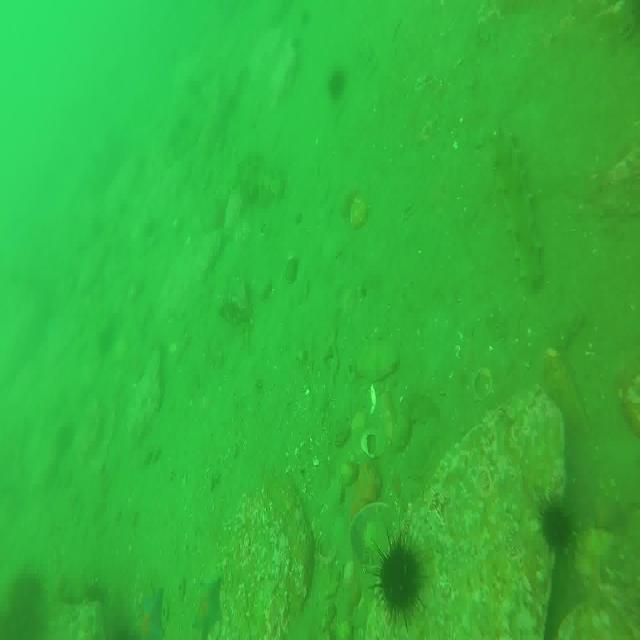echinus: (372, 528, 422, 625), (0, 585, 43, 640), (541, 497, 578, 558), (326, 63, 349, 102)
holothurian: (482, 123, 543, 287), (233, 153, 288, 200)
starfish: (188, 582, 221, 640), (136, 588, 166, 640)
